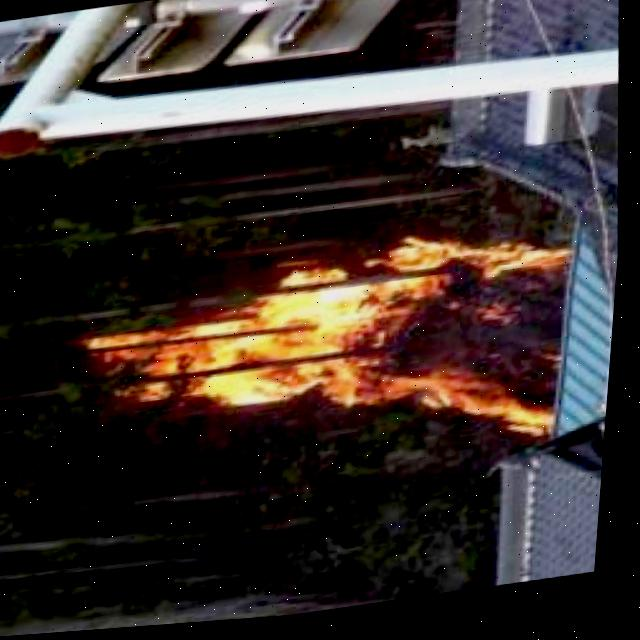Fire: (40, 207, 601, 512)
